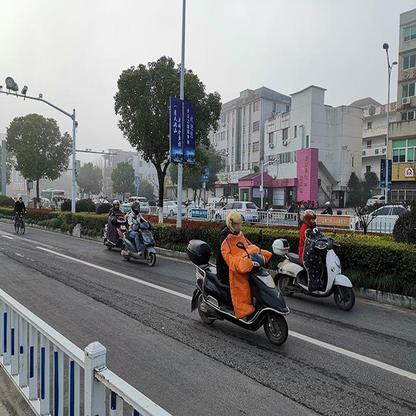target: (186, 210, 291, 348), (273, 209, 357, 312)
